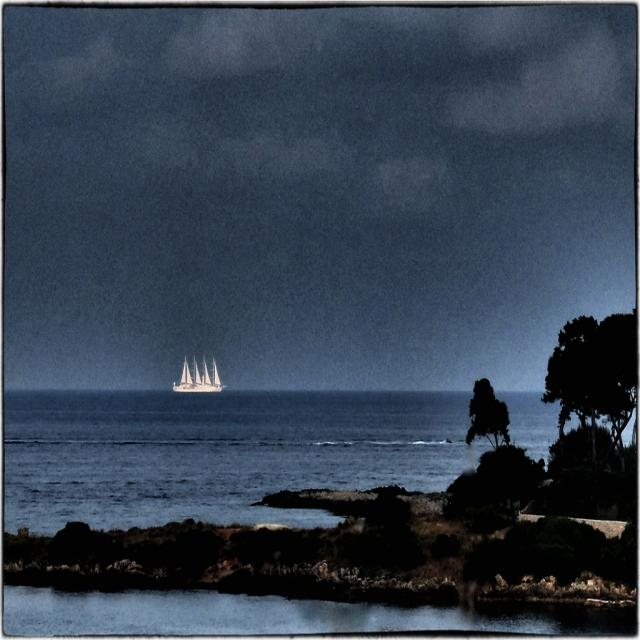Boat: (170, 354, 224, 395)
